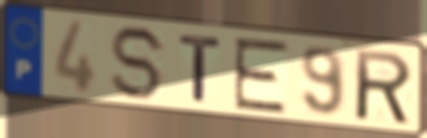4: (52, 17, 102, 97)
9: (298, 44, 347, 118)
E: (232, 36, 292, 115)
R: (352, 46, 415, 127)
S: (108, 24, 170, 102)
T: (177, 32, 224, 105)
